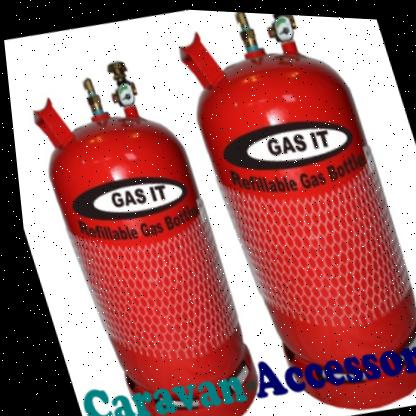gas-tank: (146, 5, 415, 415), (2, 32, 273, 415)
